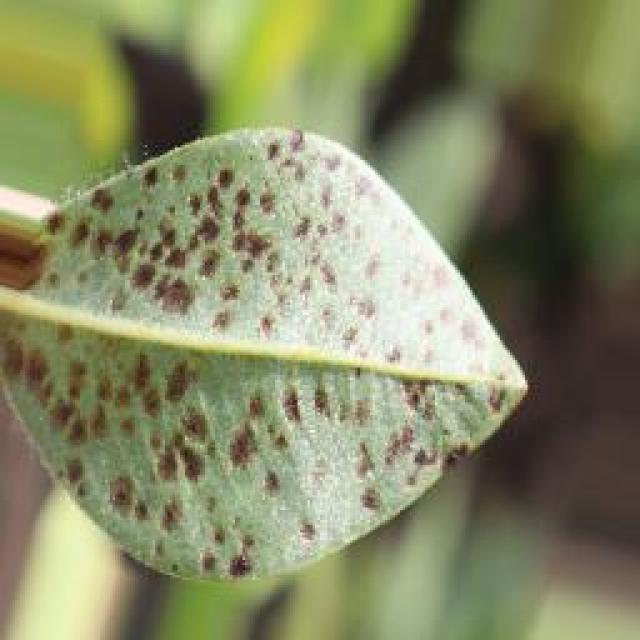Whitefly: (0, 133, 530, 595)
